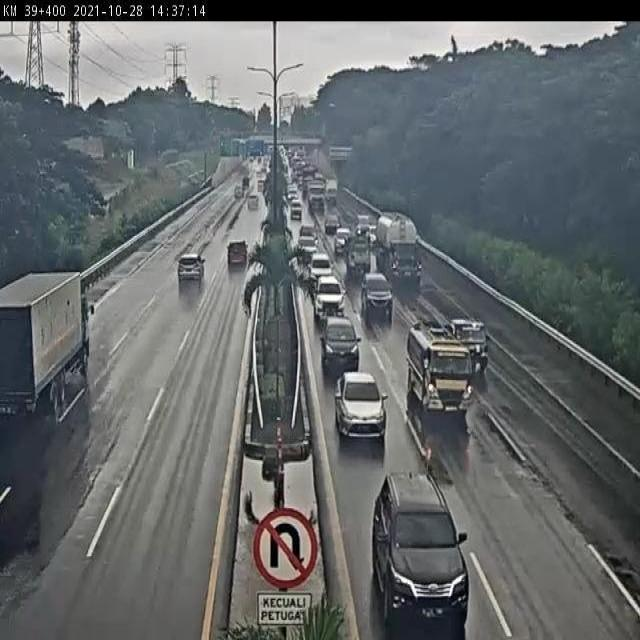Car: (360, 468, 475, 634), (330, 368, 390, 454), (361, 272, 395, 322), (174, 249, 213, 289), (314, 278, 346, 320), (223, 237, 258, 270), (309, 252, 335, 276), (298, 236, 320, 262), (336, 229, 352, 259), (358, 212, 374, 235), (325, 217, 342, 236), (247, 193, 260, 210), (300, 224, 316, 237), (232, 186, 245, 198)
Truck: (2, 265, 98, 427), (406, 324, 480, 434), (375, 212, 425, 299), (451, 314, 493, 370), (306, 178, 327, 215), (325, 176, 339, 204)
Van: (322, 317, 362, 373), (347, 232, 372, 276), (289, 200, 303, 223)
